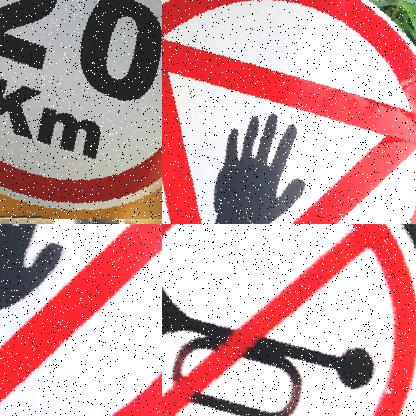No Horns: (162, 224, 416, 416)
Speed Limit -20 kmph-: (0, 0, 162, 219)
Stop: (162, 0, 416, 224), (0, 224, 162, 416)
